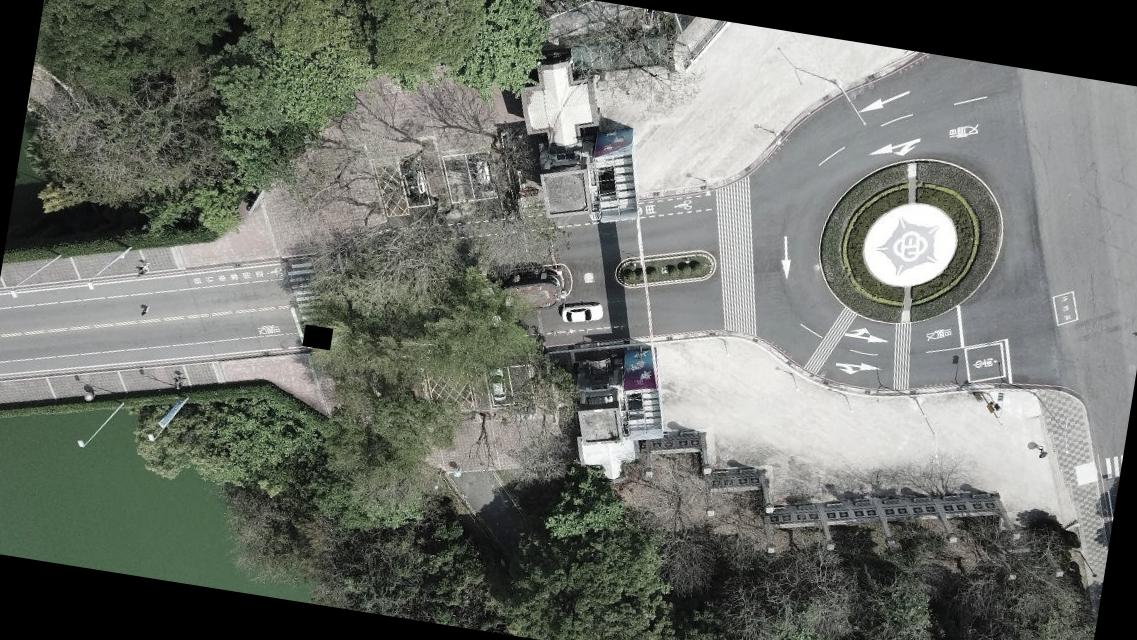vehicle: (395, 154, 434, 203), (467, 152, 500, 201), (560, 298, 604, 327), (484, 363, 510, 404)
